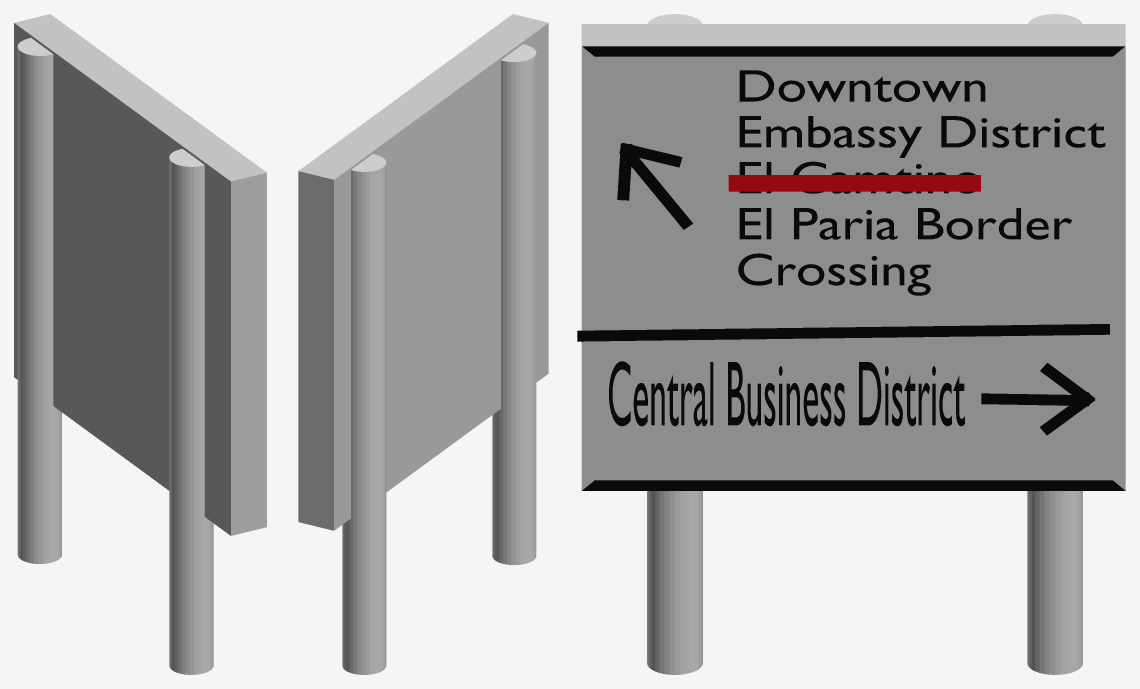
Rendered from UK_junction_sign_23.fbx.
3 views of the same model, side by side, from view 1: azimuth 30°, elevation 25°; view 2: azimuth 150°, elevation 25°; view 3: azimuth 270°, elevation 25° (orthographic). The views are drawn at different scales.
Parts seen in each view (by area): view 1: Cube.001, Cylinder.001, Cylinder; view 2: Cube.001, Cylinder, Cylinder.001; view 3: Cube.001, Text.001, Cylinder.001, Cylinder, Text.003, Plane.012, Plane.003, Plane.011, Plane.004.
Part boxes in pixels (<box>): Cube.001: <box>14,14,266,535</box>; Cylinder.001: <box>17,38,61,563</box>; Cylinder: <box>169,149,213,674</box>; Cube.001: <box>298,14,548,530</box>; Cylinder: <box>492,44,536,565</box>; Cylinder.001: <box>342,154,386,674</box>; Cube.001: <box>581,24,1125,490</box>; Text.001: <box>738,70,1105,295</box>; Cylinder.001: <box>1027,14,1082,674</box>; Cylinder: <box>647,14,702,674</box>; Text.003: <box>609,361,964,426</box>; Plane.012: <box>577,324,1109,341</box>; Plane.003: <box>728,175,980,191</box>; Plane.011: <box>981,393,1078,405</box>; Plane.004: <box>626,153,692,229</box>.
Size of the model in its own units: 6.29 by 50.59 by 39.25.
